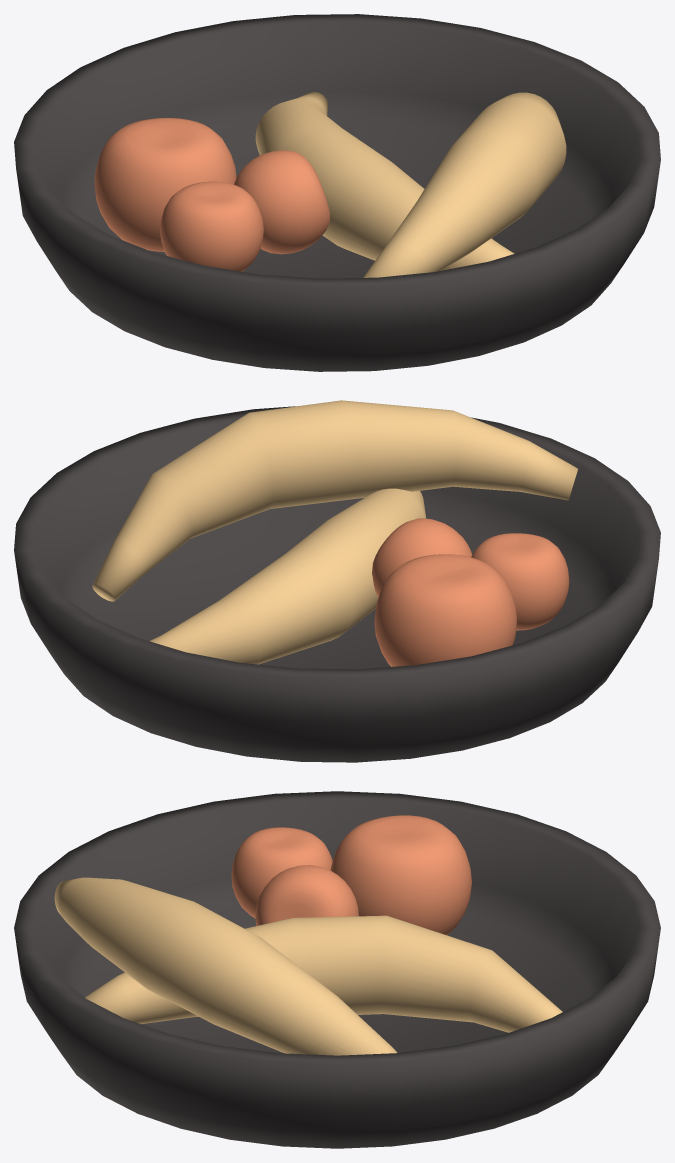
Rendered from Assets.fbx_Obstschale.fbx.
The picture shows the model from 3 angles, top to bottom: view 1: azimuth 30°, elevation 25°; view 2: azimuth 150°, elevation 25°; view 3: azimuth 270°, elevation 25°; orthographic projection.
Visible parts, largest first — view 1: Cylinder.037, Cylinder.042, Cylinder.041, Sphere.007, Sphere.008, Sphere.009; view 2: Cylinder.037, Cylinder.042, Cylinder.041, Sphere.007, Sphere.008, Sphere.009; view 3: Cylinder.037, Cylinder.042, Cylinder.041, Sphere.007, Sphere.008, Sphere.009.
Boxes of the visible parts, left/top/right/bottom form: Cylinder.037: left=14, top=14, right=660, bottom=371; Cylinder.042: left=363, top=92, right=566, bottom=277; Cylinder.041: left=255, top=92, right=514, bottom=270; Sphere.007: left=94, top=118, right=236, bottom=251; Sphere.008: left=160, top=181, right=263, bottom=271; Sphere.009: left=234, top=150, right=329, bottom=254; Cylinder.037: left=14, top=406, right=660, bottom=762; Cylinder.042: left=92, top=400, right=577, bottom=601; Cylinder.041: left=149, top=488, right=426, bottom=664; Sphere.007: left=374, top=554, right=516, bottom=666; Sphere.008: left=471, top=533, right=569, bottom=630; Sphere.009: left=372, top=518, right=472, bottom=596; Cylinder.037: left=14, top=791, right=660, bottom=1148; Cylinder.042: left=54, top=877, right=397, bottom=1055; Cylinder.041: left=85, top=915, right=562, bottom=1032; Sphere.007: left=330, top=815, right=471, bottom=935; Sphere.008: left=231, top=827, right=332, bottom=918; Sphere.009: left=255, top=865, right=358, bottom=925.
Bounding box in the file's own units: 32.74 × 9.05 × 32.74.
